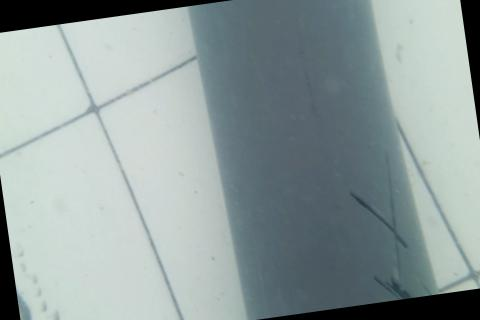keretakan: (341, 146, 434, 304)
